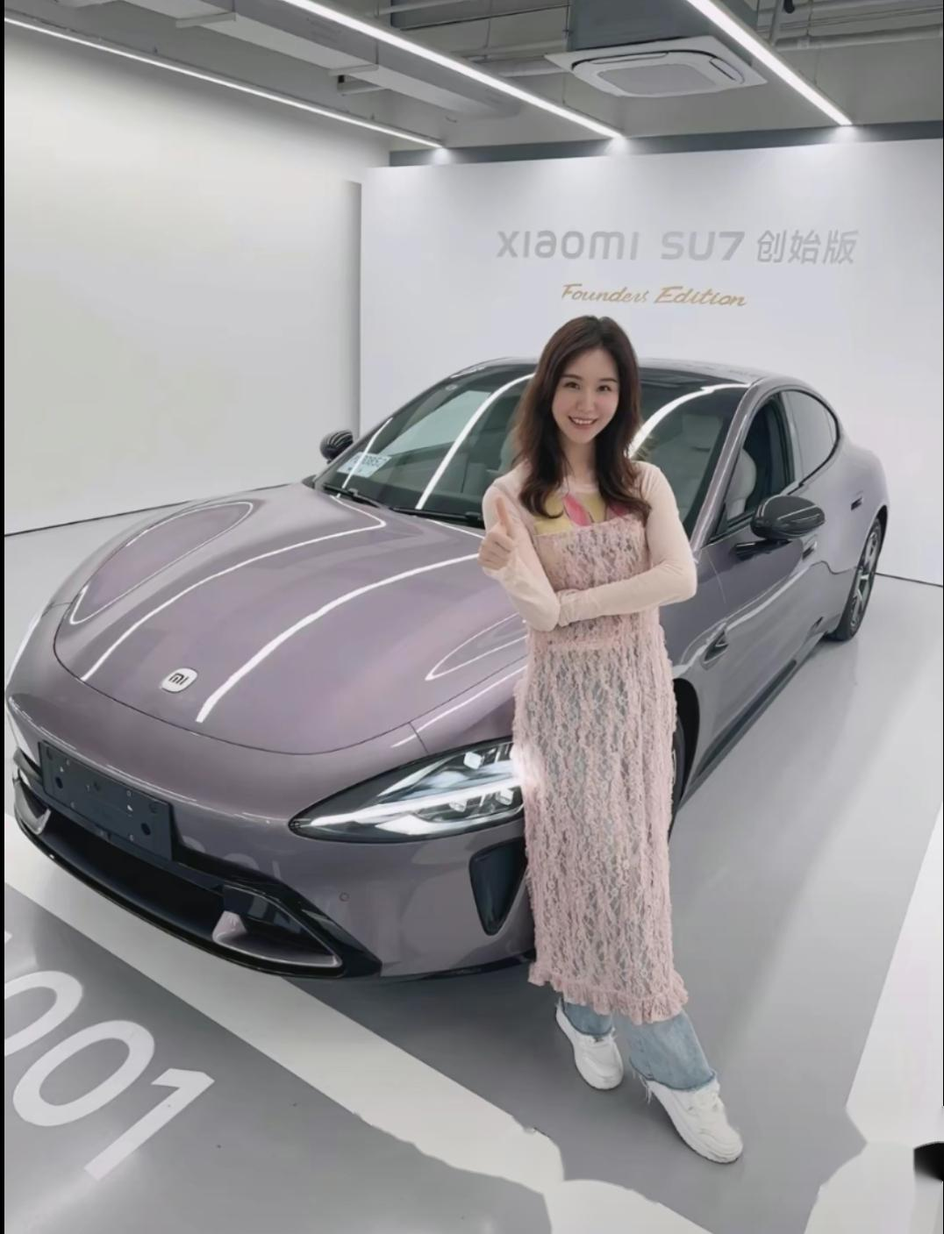su7: (39, 347, 913, 988)
